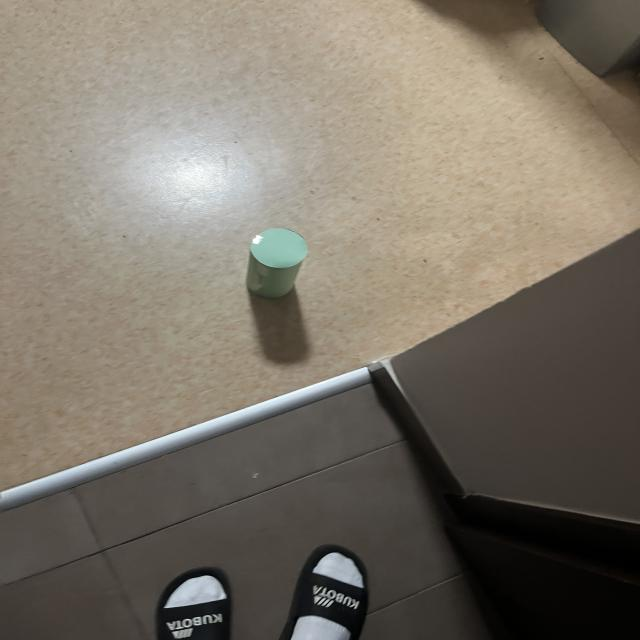meta: (246, 229, 308, 298)
